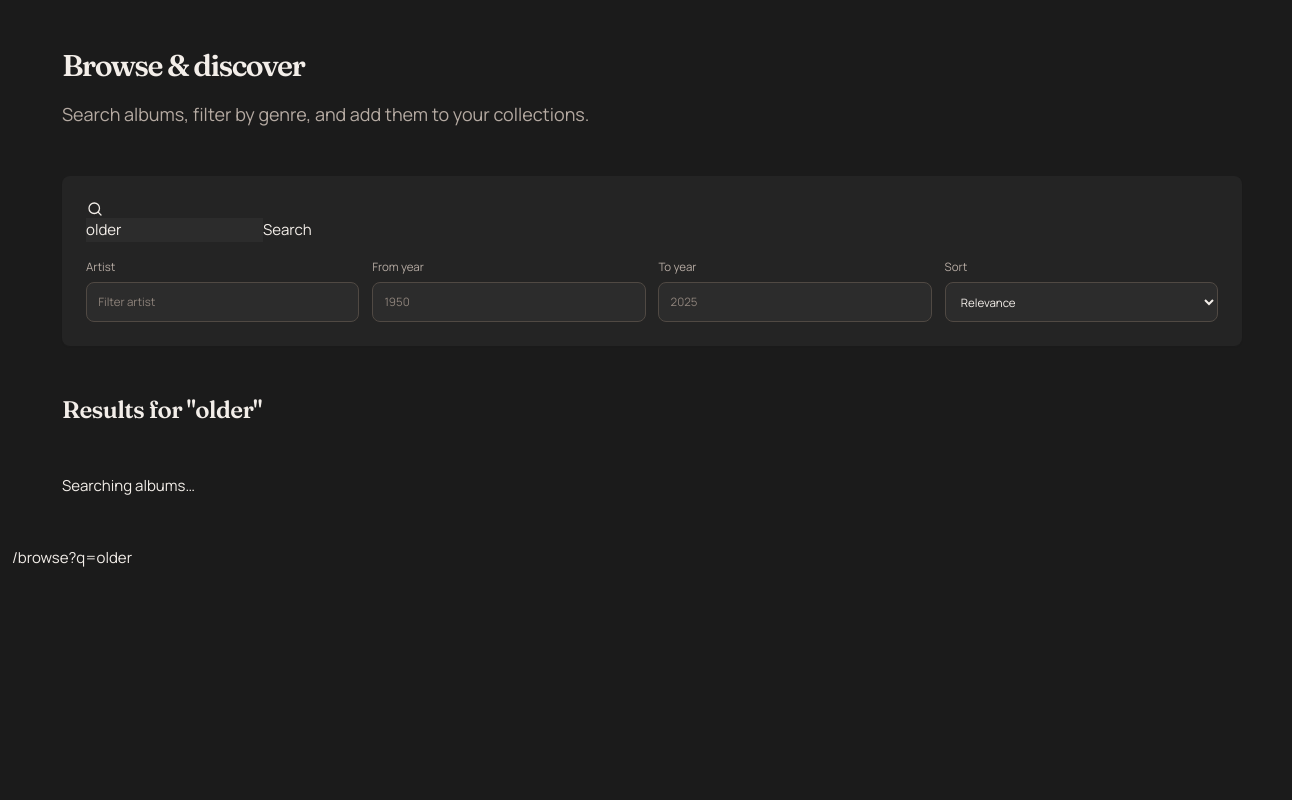
Test: Browse page › does not let an older search response replace newer results
Replace the text in the search field named "search the music catalogue" with "newer": (174, 230) [86,218,263,242]
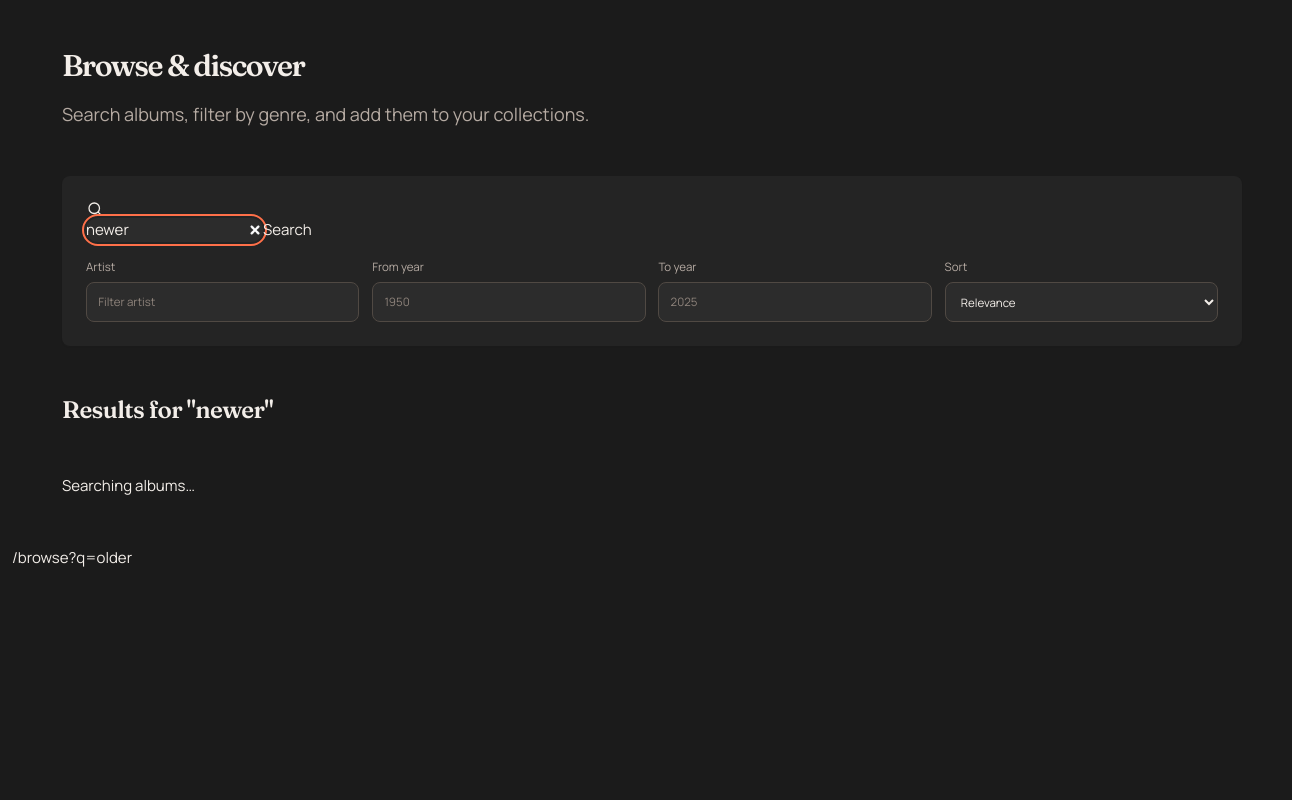
Click the button "Search": (287, 230) [263,218,312,242]
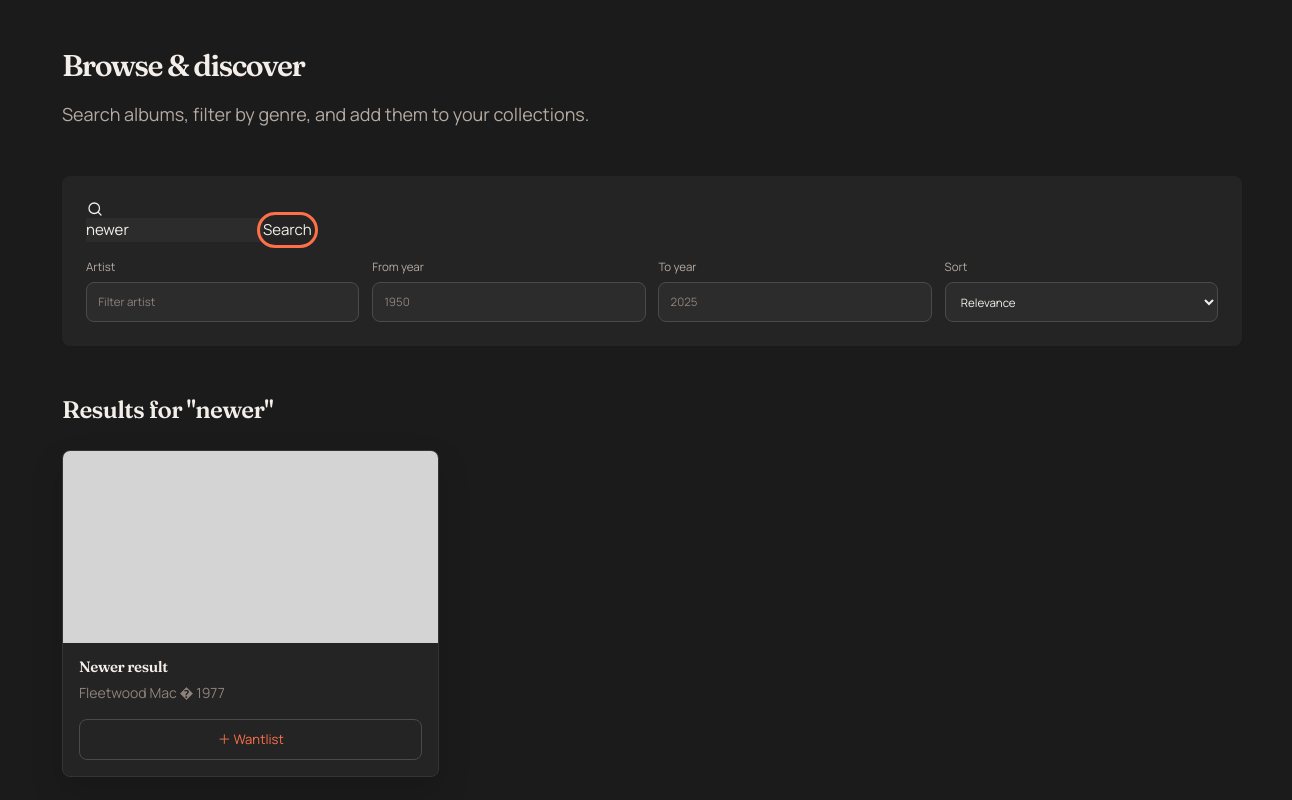
Expected: the heading "Newer result" is shown, [79,657,168,676]
